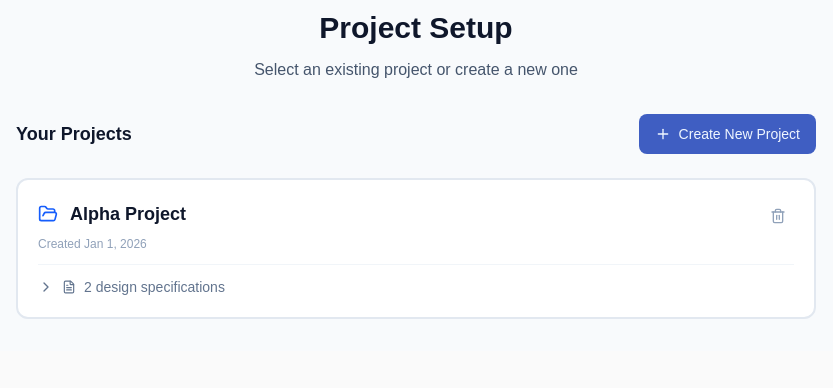
Test case: ProjectsPage — design spec expand/collapse and preview › design spec count toggle expands to show spec filenames
Expected: the text "2 design specifications" is shown, [84,277,225,297]
Step 1. Click the button "2 design specifications" → (131, 287), box [38,277,225,297]
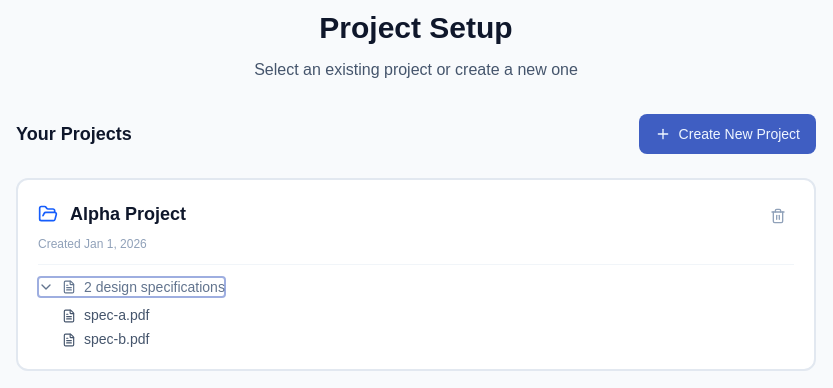
Now the text "spec-a.pdf" is shown, box [84,307,149,323]
Now the text "spec-b.pdf" is shown, box [84,331,149,347]
